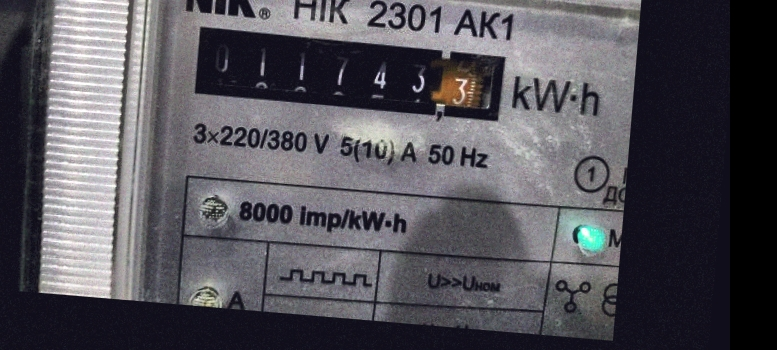0: (210, 38, 232, 76)
1: (293, 46, 310, 82), (256, 43, 268, 77)
3: (406, 59, 428, 95), (449, 75, 469, 109)
4: (369, 56, 389, 91)
7: (330, 52, 351, 87)
screen: (178, 13, 519, 135)
